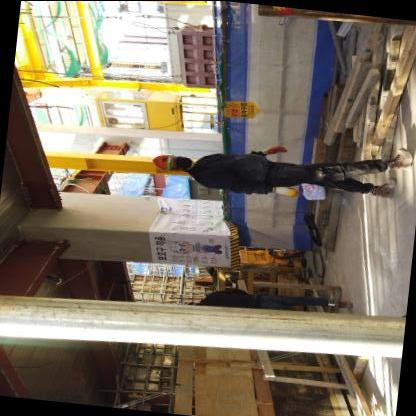Helmet: (152, 148, 173, 174)
safety-shoe: (364, 175, 404, 206), (381, 146, 415, 177), (329, 296, 357, 309)
